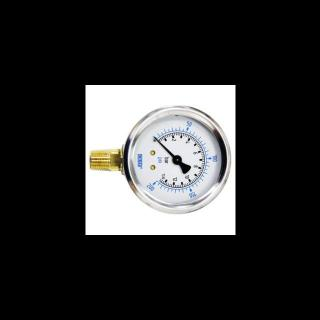gauge: (122, 103, 232, 218), (150, 173, 166, 189), (149, 132, 162, 146), (172, 155, 183, 166), (152, 135, 156, 139)
